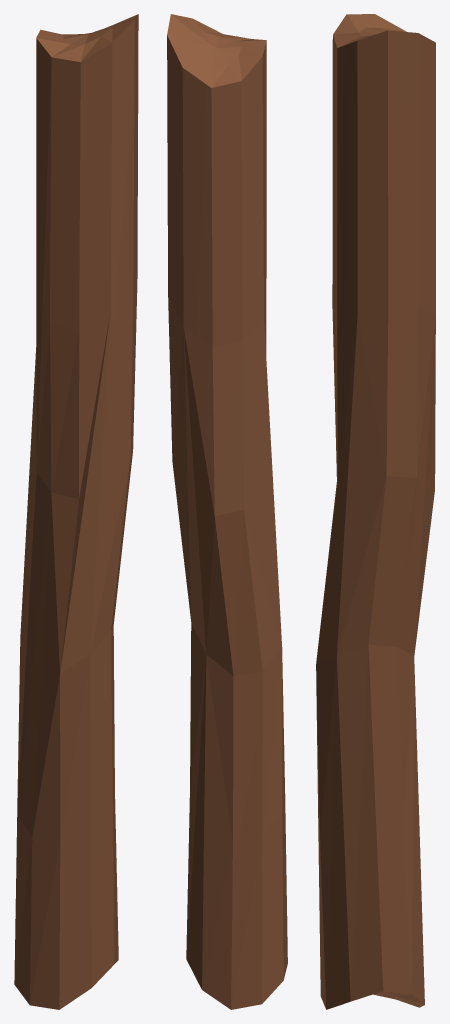
Rendered from woodSupport2.fbx.
3 renders of one model, left to right at view 1: azimuth 30°, elevation 25°; view 2: azimuth 210°, elevation 25°; view 3: azimuth 330°, elevation 25°, orthographic. The views are drawn at different scales.
Visible parts, largest first — view 1: bridge_002; view 2: bridge_002; view 3: bridge_002.
Boxes of the visible parts, left/top/right/bottom form: bridge_002: left=14, top=14, right=138, bottom=1009; bridge_002: left=167, top=14, right=287, bottom=1009; bridge_002: left=316, top=14, right=435, bottom=1009.
Bounding box in the file's own units: 0.5091 × 4.71 × 0.478.
